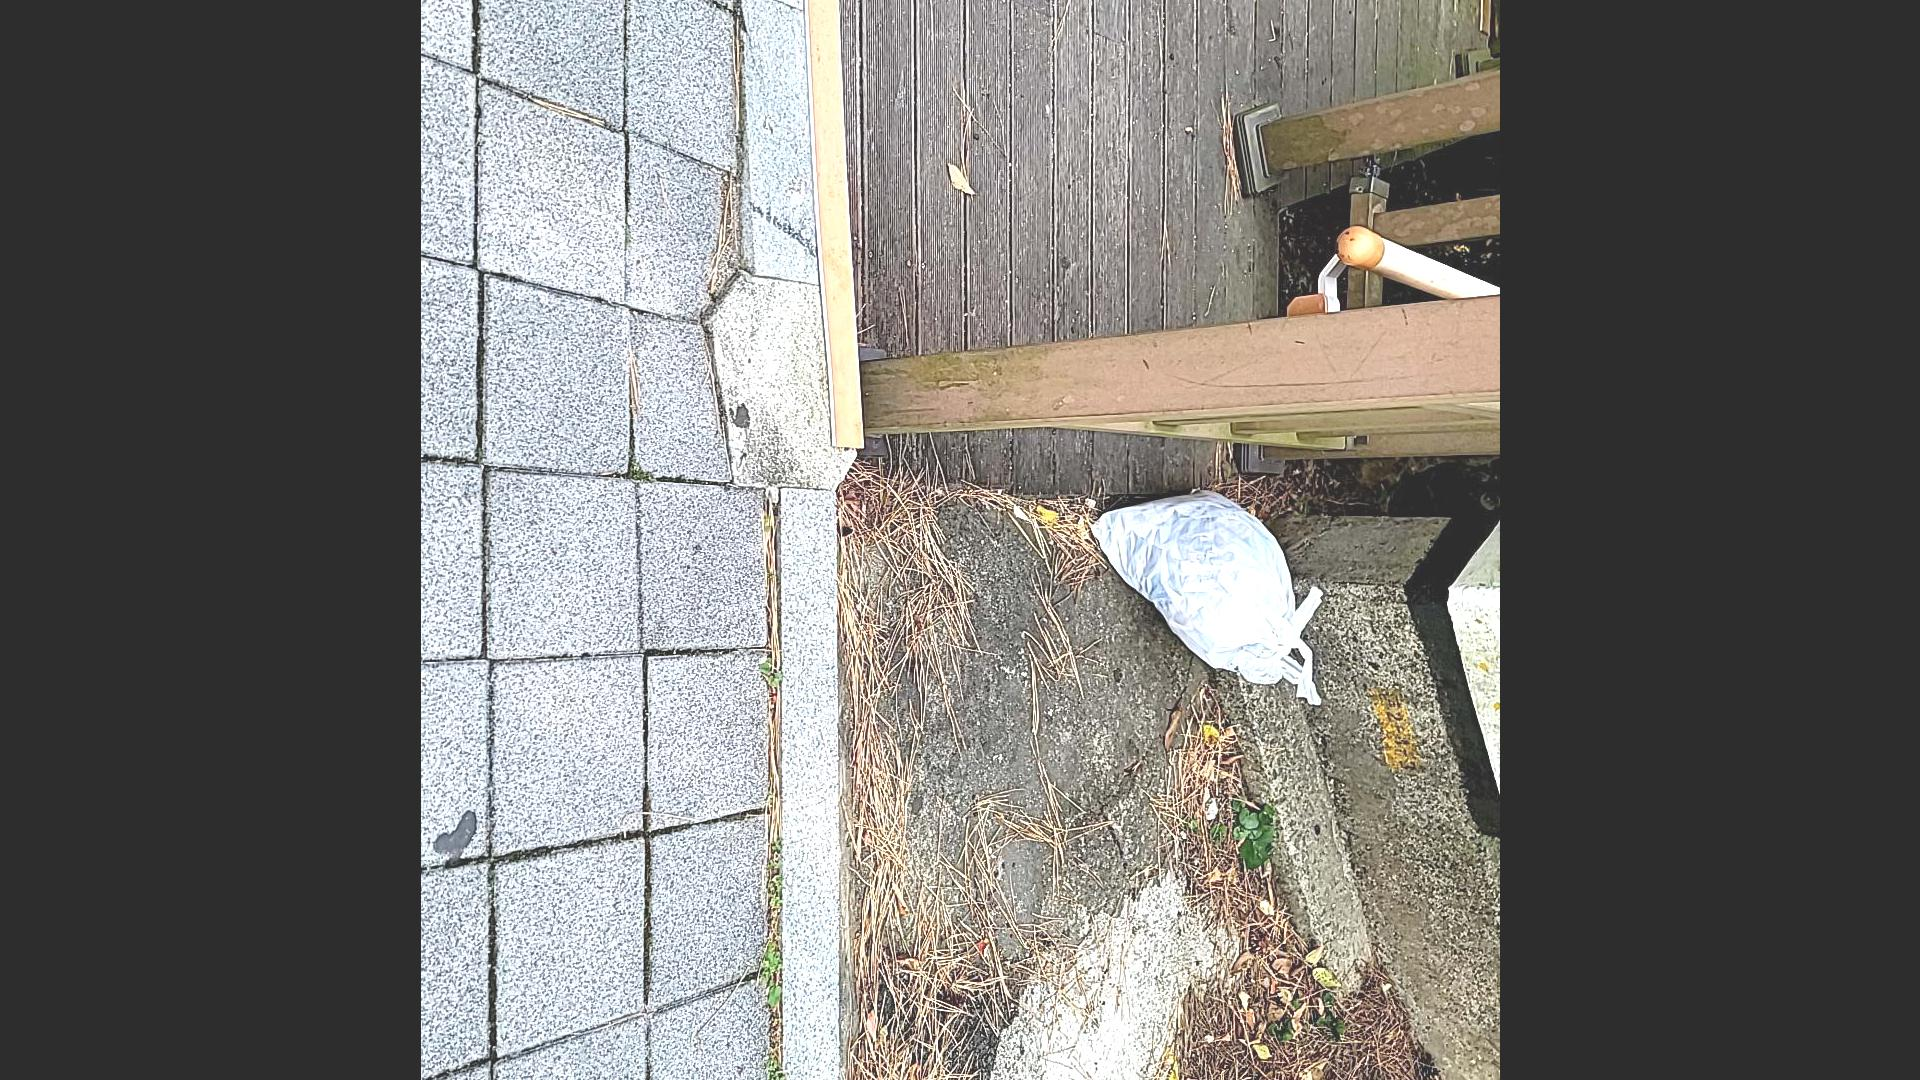white_bag: (1084, 475, 1342, 712)
